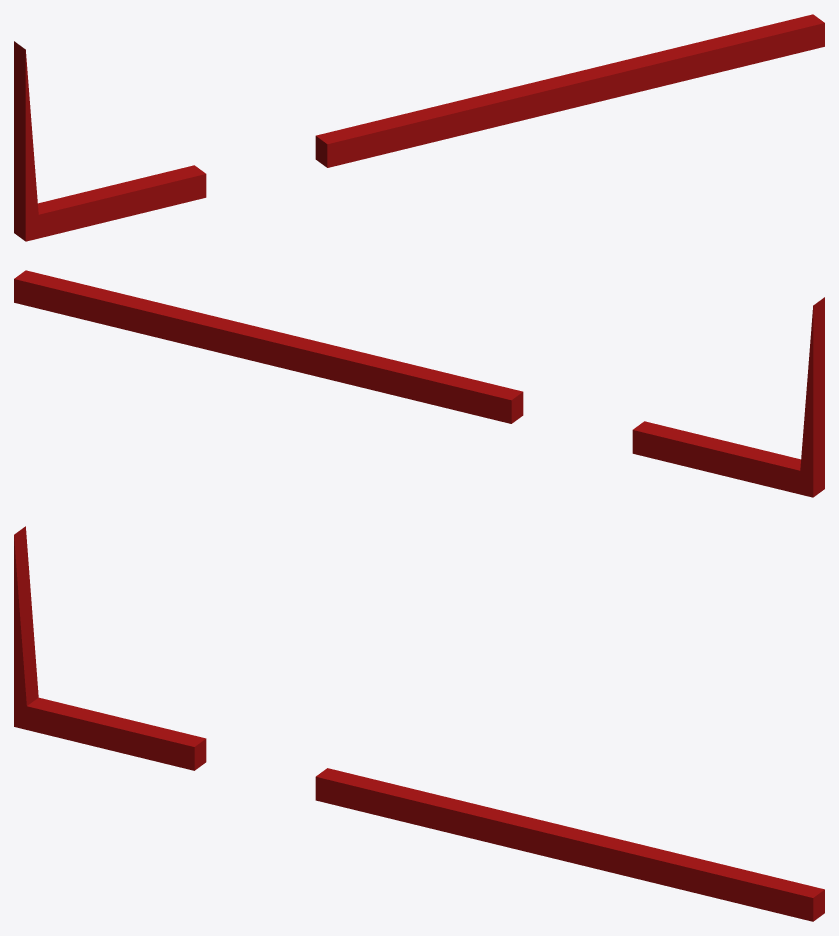
File: stena pered.FBX
3 views of the same model, one above another, from view 1: azimuth 30°, elevation 25°; view 2: azimuth 150°, elevation 25°; view 3: azimuth 330°, elevation 25° (orthographic).
Visible parts, largest first — view 1: Box018; view 2: Box018; view 3: Box018.
Boxes of the visible parts, x1,y1,x2,y2 form: Box018: [14, 14, 824, 241]; Box018: [14, 270, 824, 497]; Box018: [14, 526, 824, 921].
Size of the model in its own units: 117 by 26.87 by 3.
